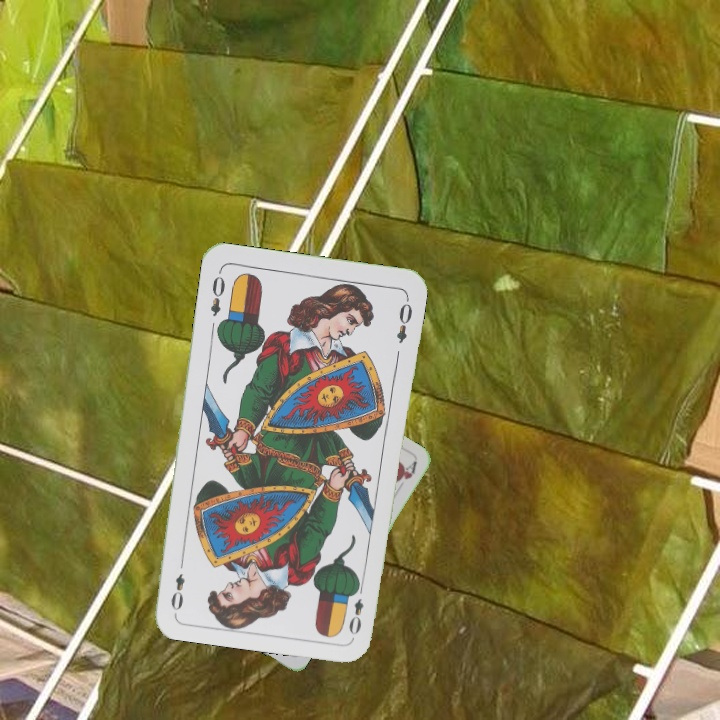EO: (345, 579, 366, 638), (206, 267, 228, 319)
